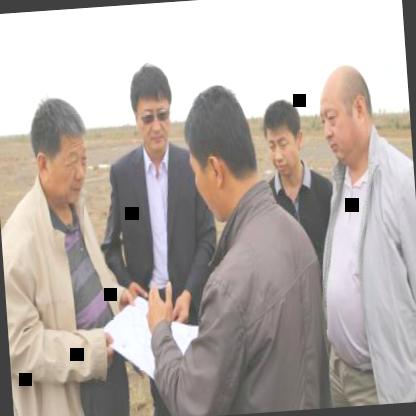head: (186, 90, 258, 226), (26, 94, 95, 214), (317, 57, 379, 170), (123, 58, 177, 158), (262, 90, 306, 186)
